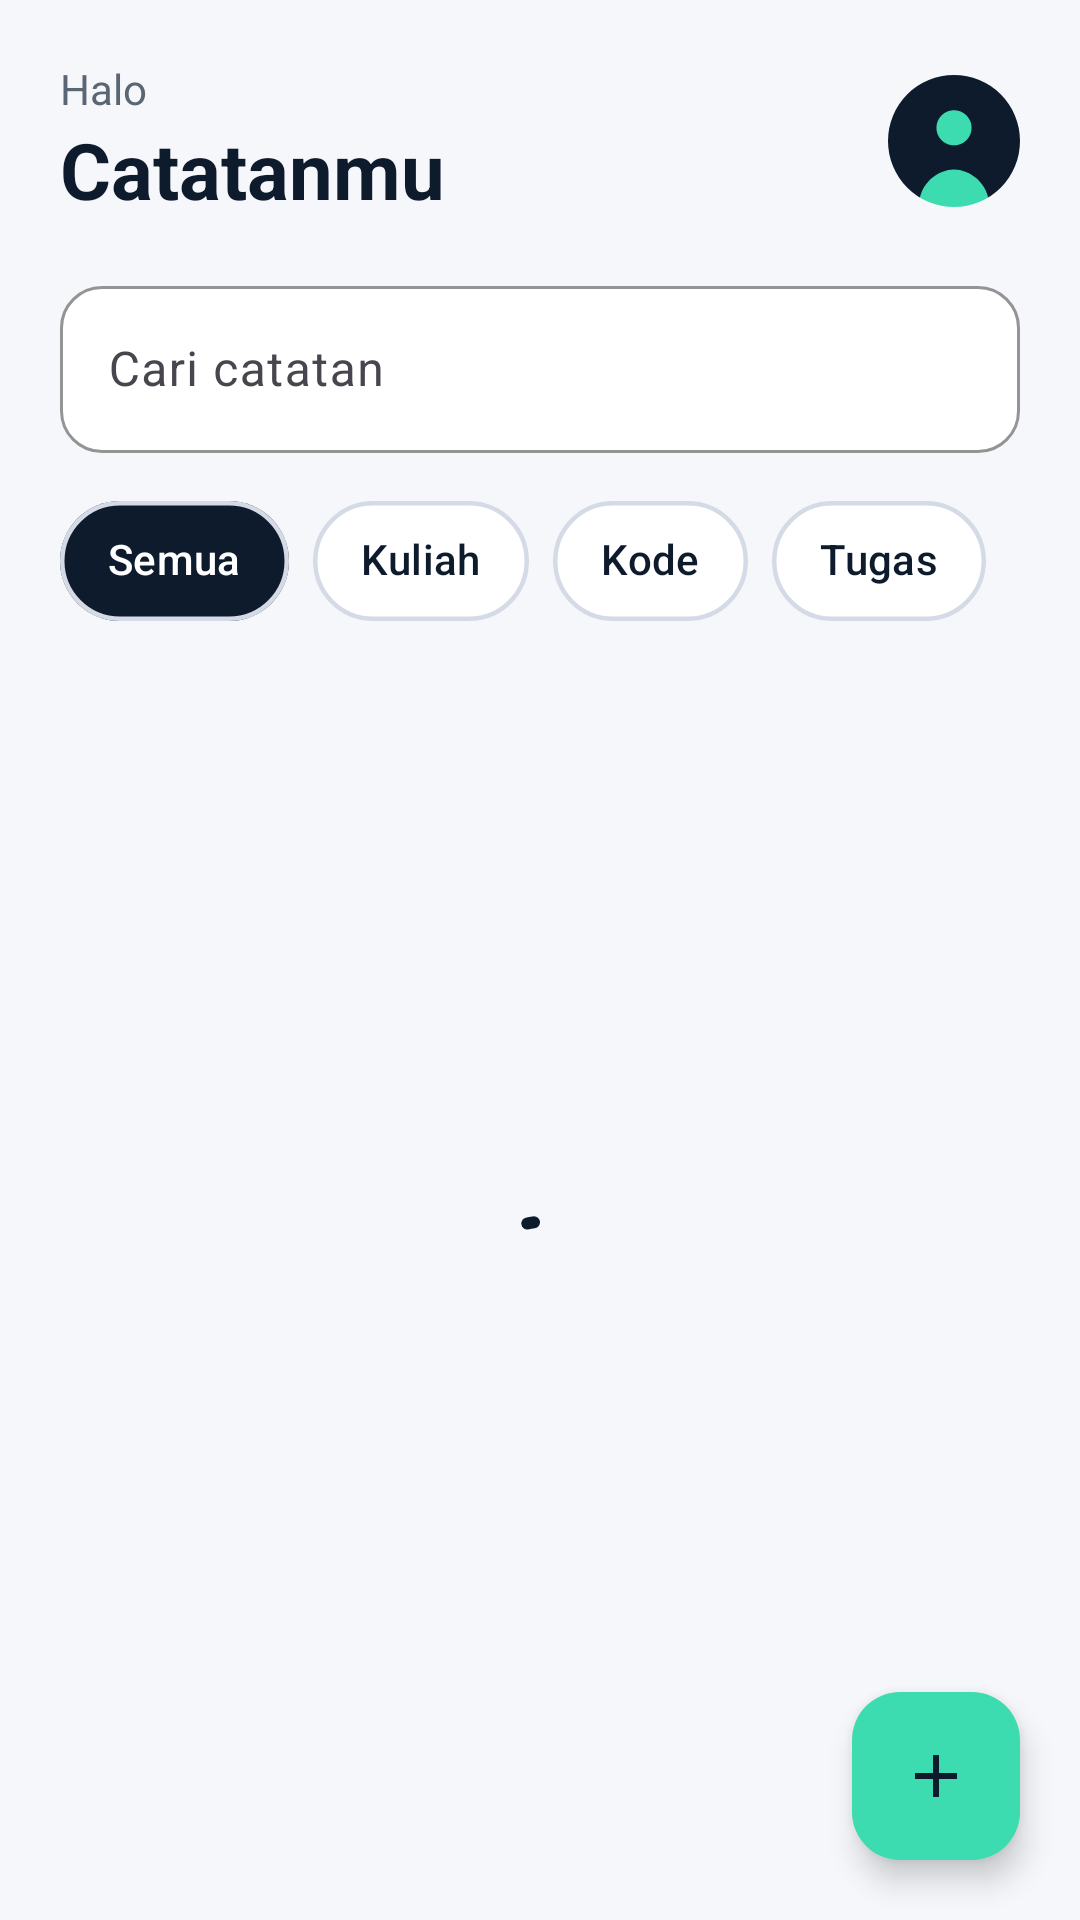

Point at icon controls on the screen. Image size 1080×1920, points as (x,y).
Tambah catatan: (936,1776)
